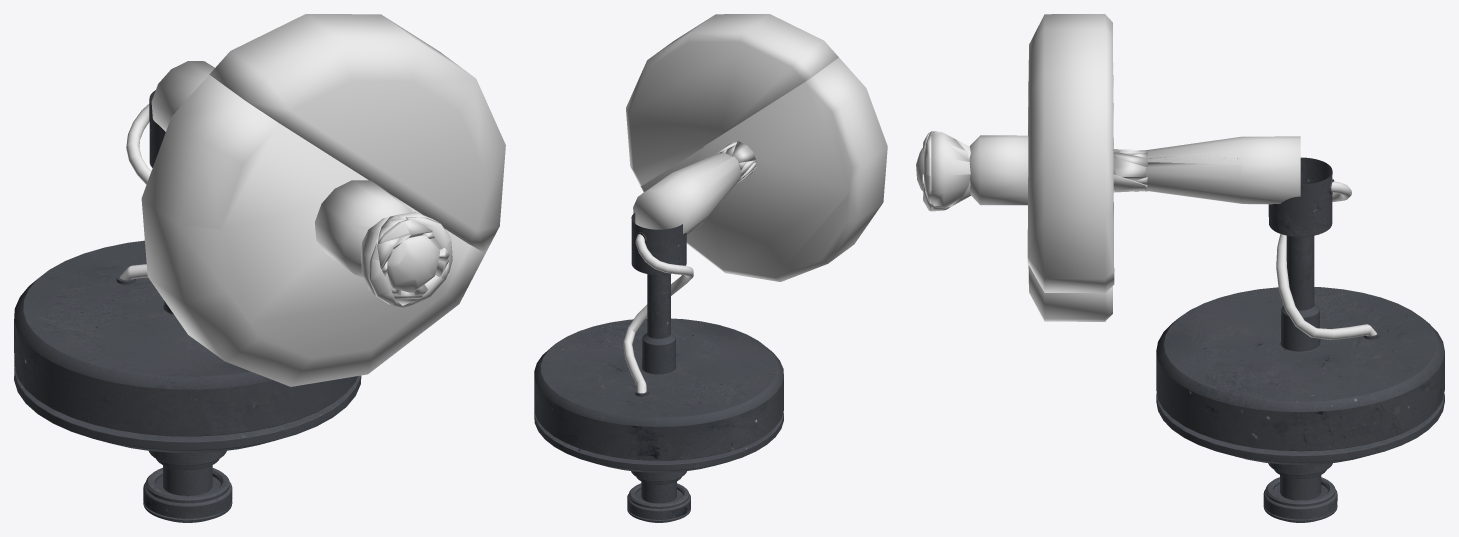
File: SM_CeillingFan.fbx
3 renders of one model, left to right at view 1: azimuth 30°, elevation 25°; view 2: azimuth 150°, elevation 25°; view 3: azimuth 270°, elevation 25°, orthographic. The views are drawn at different scales.
Visible parts, largest first — view 1: SM_CeillingFan_ConvexHulls, SM_CeillingFan; view 2: SM_CeillingFan_ConvexHulls, SM_CeillingFan; view 3: SM_CeillingFan, SM_CeillingFan_ConvexHulls.
Part boxes in pixels (x1,y1,x2,y2): SM_CeillingFan_ConvexHulls: (141, 14, 505, 386); SM_CeillingFan: (14, 90, 361, 522); SM_CeillingFan_ConvexHulls: (626, 14, 887, 281); SM_CeillingFan: (534, 212, 783, 522); SM_CeillingFan: (1156, 157, 1444, 522); SM_CeillingFan_ConvexHulls: (916, 14, 1300, 321).
Size of the model in its own units: 0.532 by 0.913 by 0.8953.
